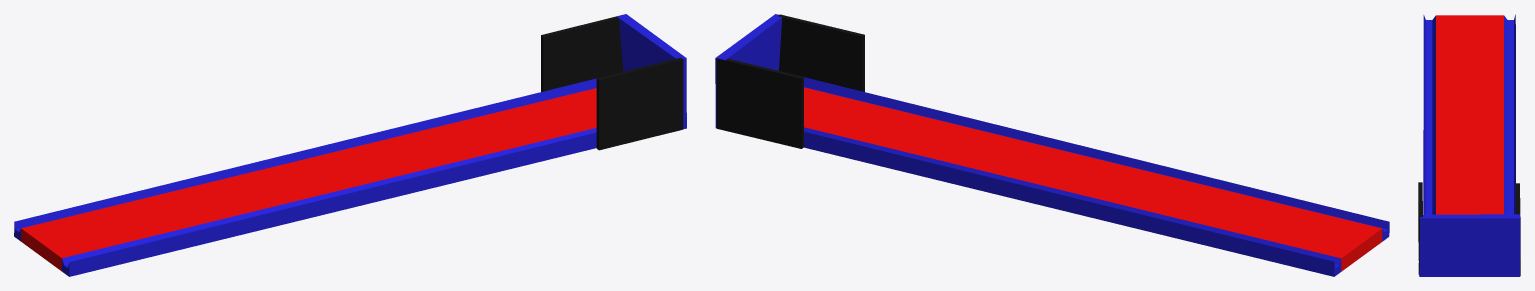
Rendered from Alley.fbx.
3 views of the same model, side by side, from view 1: azimuth 30°, elevation 25°; view 2: azimuth 150°, elevation 25°; view 3: azimuth 270°, elevation 25° (orthographic). The views are drawn at different scales.
Visible parts, largest first — view 1: Cube, Cube.003, Cube.004, Cube.001; view 2: Cube, Cube.004, Cube.003, Cube.001; view 3: Cube, Cube.001, Cube.003, Cube.004.
Boxes of the visible parts, x1,y1,x2,y2 form: Cube: [14, 78, 596, 276]; Cube.003: [596, 57, 683, 150]; Cube.004: [541, 16, 623, 91]; Cube.001: [617, 14, 686, 129]; Cube: [804, 77, 1389, 276]; Cube.004: [716, 58, 803, 148]; Cube.003: [777, 14, 864, 91]; Cube.001: [715, 14, 782, 128]; Cube: [1423, 14, 1515, 214]; Cube.001: [1419, 214, 1520, 276]; Cube.003: [1418, 182, 1422, 274]; Cube.004: [1516, 183, 1520, 276].
Size of the model in its own units: 40804 by 4477 by 7018.
